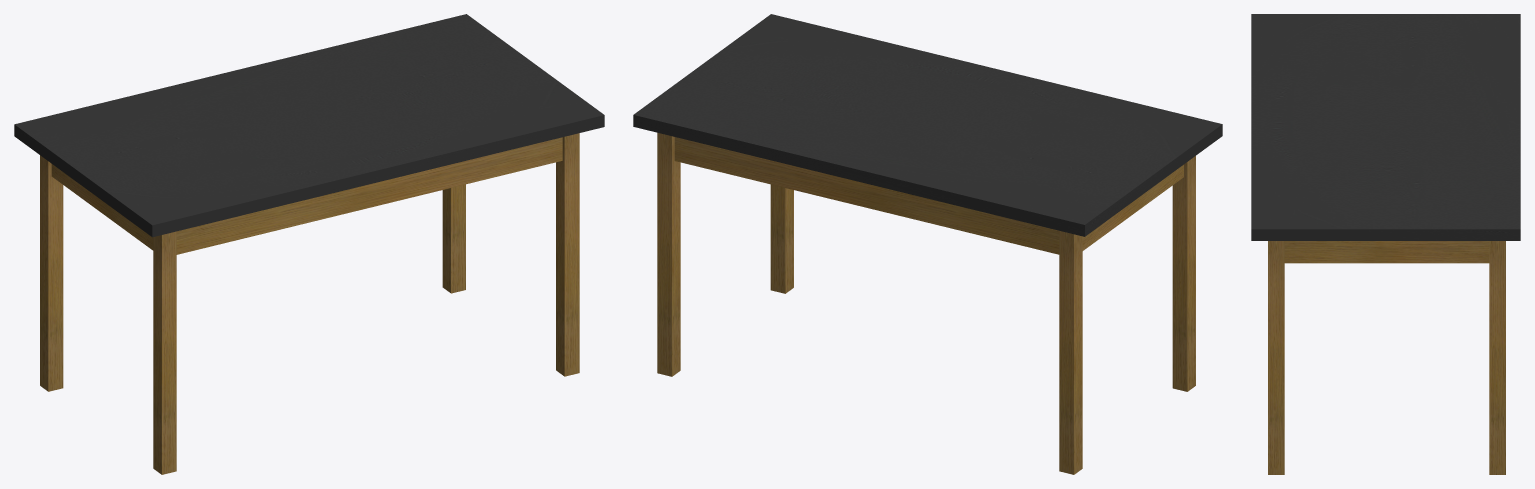
File: table5.FBX
3 views of the same model, side by side, from view 1: azimuth 30°, elevation 25°; view 2: azimuth 150°, elevation 25°; view 3: azimuth 270°, elevation 25° (orthographic). The views are drawn at different scales.
Visible parts, largest first — view 1: table5; view 2: table5; view 3: table5.
Boxes of the visible parts, box(x1,y1,x2,y2) form: table5: box(14, 14, 604, 474); table5: box(633, 14, 1222, 474); table5: box(1251, 14, 1520, 474).
Bounding box in the file's own units: 15.28 × 8.4 × 8.07.
